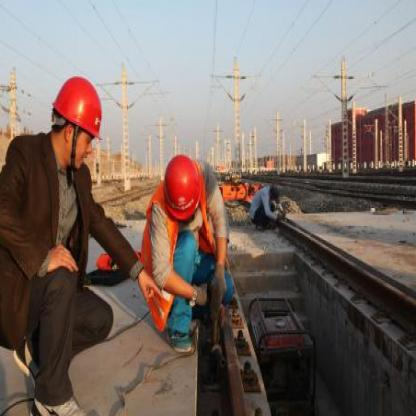helmet: (50, 72, 108, 172), (160, 152, 208, 236)
